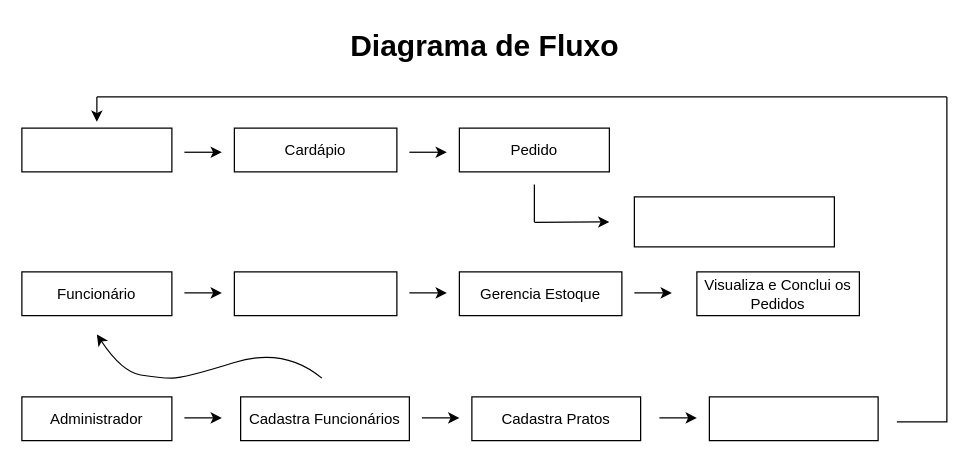
This 970x463 diagram has some shape labels left out. The shapes that lost their labels are listed below. From the top down, each one's centre as x and y in pixels, then its label:
(x=96, y=149): Cliente
(x=733, y=221): Pedido chega para o funcionário
(x=315, y=293): Cadastra Ingredientes
(x=793, y=418): Gerencia Cardápio
